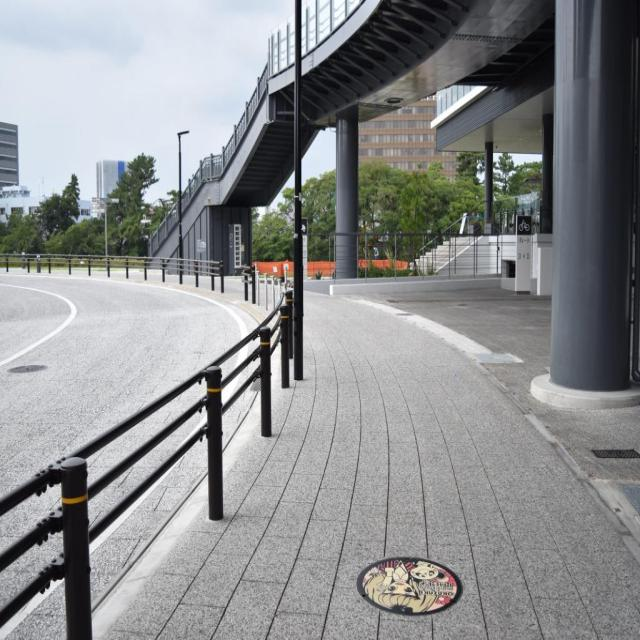manhole: (357, 557, 462, 616)
